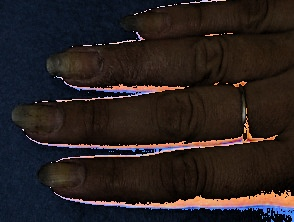Nail_psoriasis: (34, 151, 99, 207), (7, 98, 72, 144), (42, 46, 114, 85), (112, 7, 179, 41)
